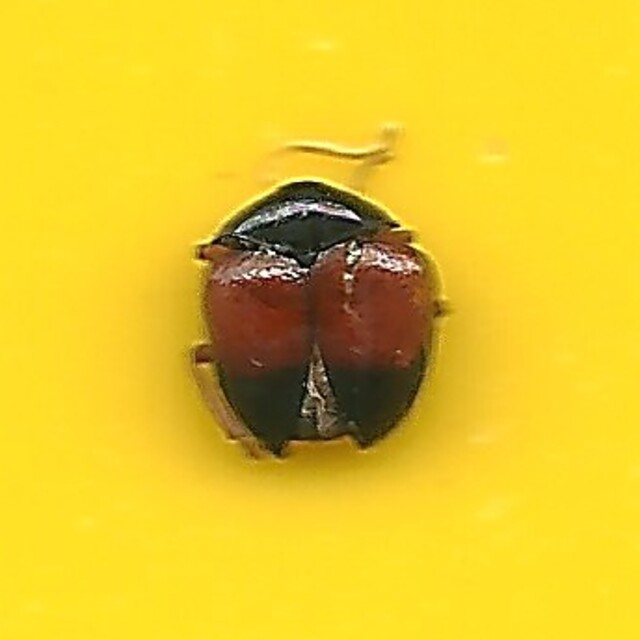Coleoptera: (186, 173, 454, 467)
